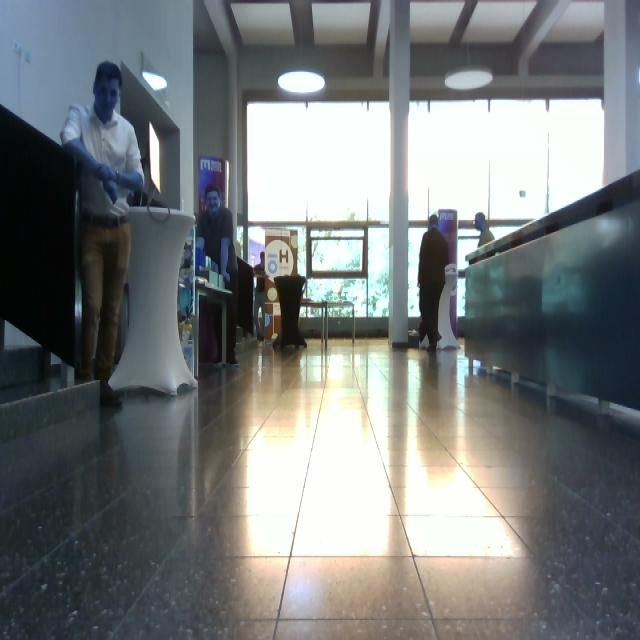light bulb: (278, 71, 326, 95), (445, 67, 493, 91), (475, 212, 495, 248), (142, 72, 168, 92)
person: (60, 61, 146, 406), (196, 184, 240, 368), (417, 214, 449, 352)
pillar: (108, 205, 199, 396), (388, 1, 411, 346)
tiled floor: (1, 333, 639, 638)
window: (246, 98, 391, 325)
